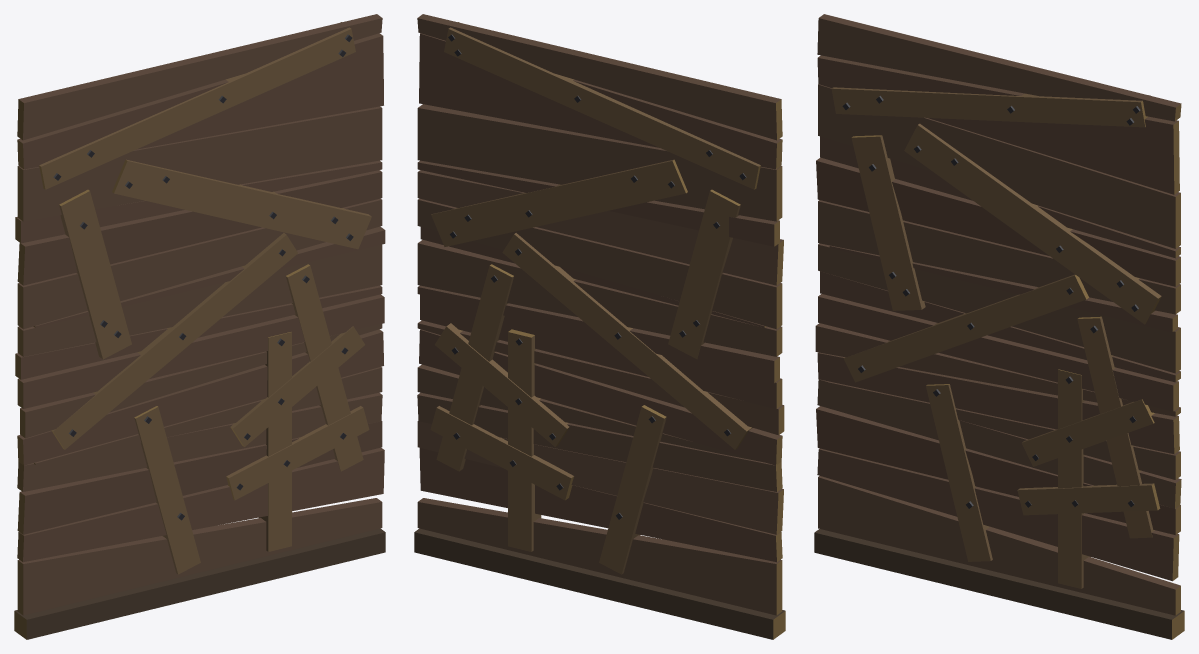
Rendered from Wall_1C_4mx6m.fbx.
The picture shows the model from 3 angles, left to right: view 1: azimuth 30°, elevation 25°; view 2: azimuth 150°, elevation 25°; view 3: azimuth 330°, elevation 25°; orthographic projection.
Visible parts, largest first — view 1: pCube2411; view 2: pCube2411; view 3: pCube2411.
Part boxes in pixels (box(x1,y1,x2,y2)): pCube2411: box(14, 14, 385, 639); pCube2411: box(414, 14, 785, 639); pCube2411: box(814, 14, 1184, 639).
Size of the model in its own units: 401 by 569 by 26.54.
